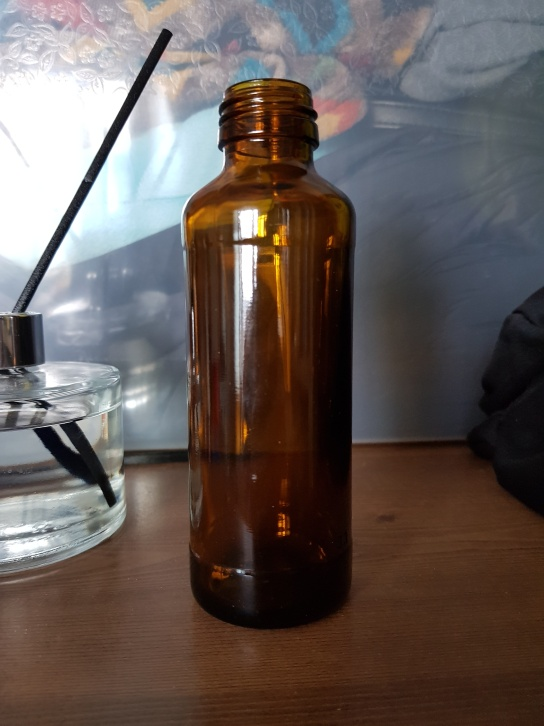Glass: (185, 76, 355, 631)
